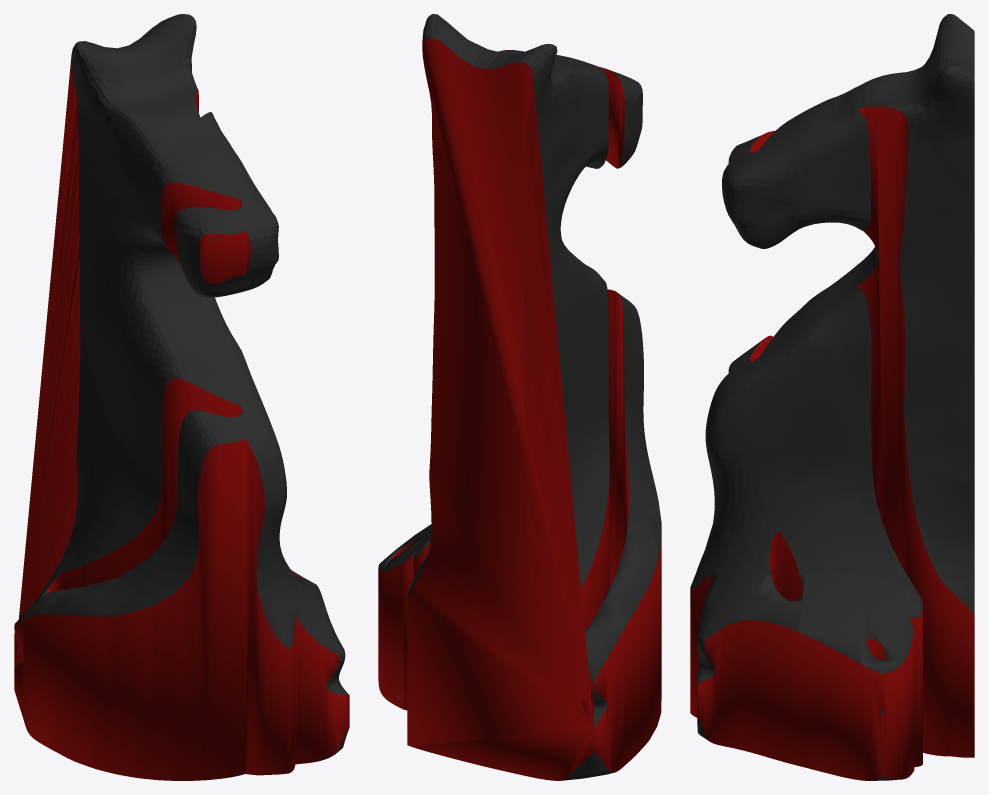
The model's file is BlackKnight.fbx.
The picture shows the model from 3 angles, left to right: view 1: azimuth 30°, elevation 25°; view 2: azimuth 150°, elevation 25°; view 3: azimuth 270°, elevation 25°; orthographic projection. The views are drawn at different scales.
Parts seen in each view (by area): view 1: Knight.001; view 2: Knight.001; view 3: Knight.001.
Boxes of the visible parts, bbox=[...] form: Knight.001: bbox=[14, 14, 349, 780]; Knight.001: bbox=[378, 14, 661, 780]; Knight.001: bbox=[690, 14, 974, 780].
Bounding box in the file's own units: 52.83 × 138 × 51.77.
